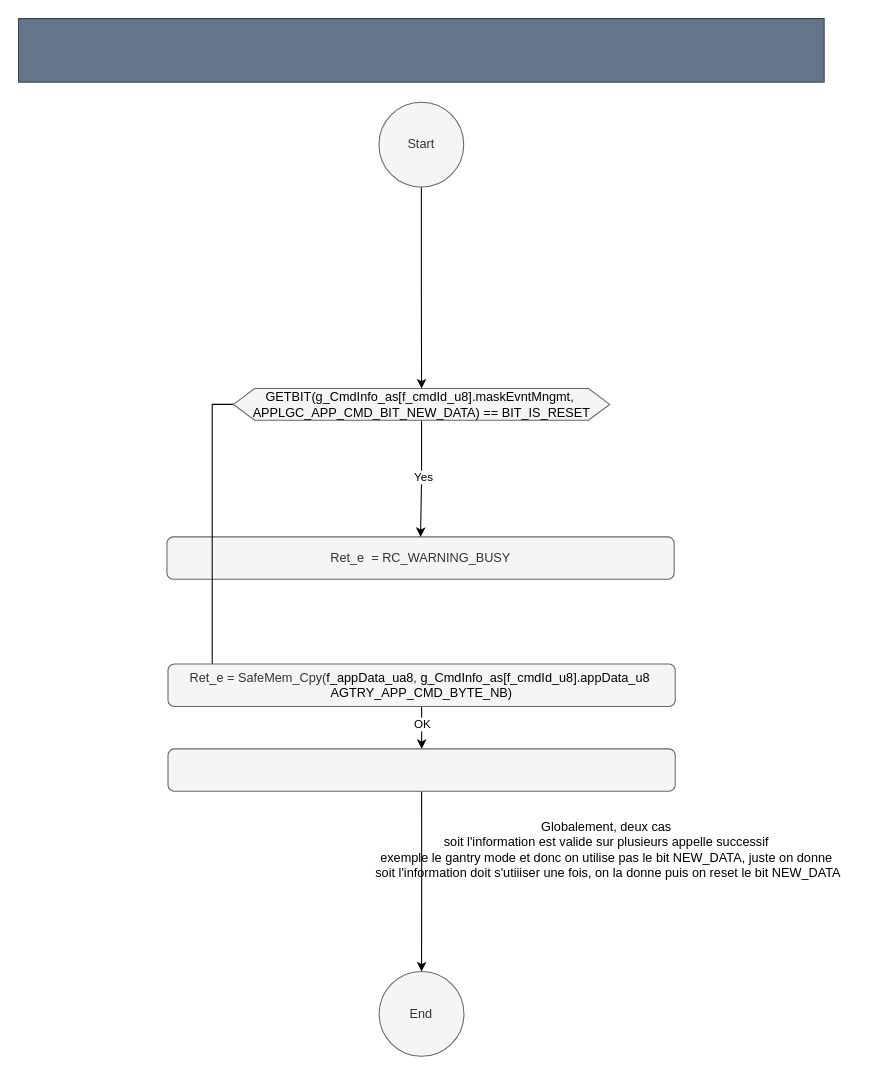
Image size: 870x1075. Some labels were removed from this diagram. The shapes that lost their labels are listed below. From the top down, each one's centre as x and y in pixels, then its label:
point (420, 49): s_APPLGC_GetDataFromApp(t_eAPPLGC_AppCmdId f_cmdId_u8, t_uint8 f_appData_ua8[])
point (421, 769): switch case f_cmdId_u8
